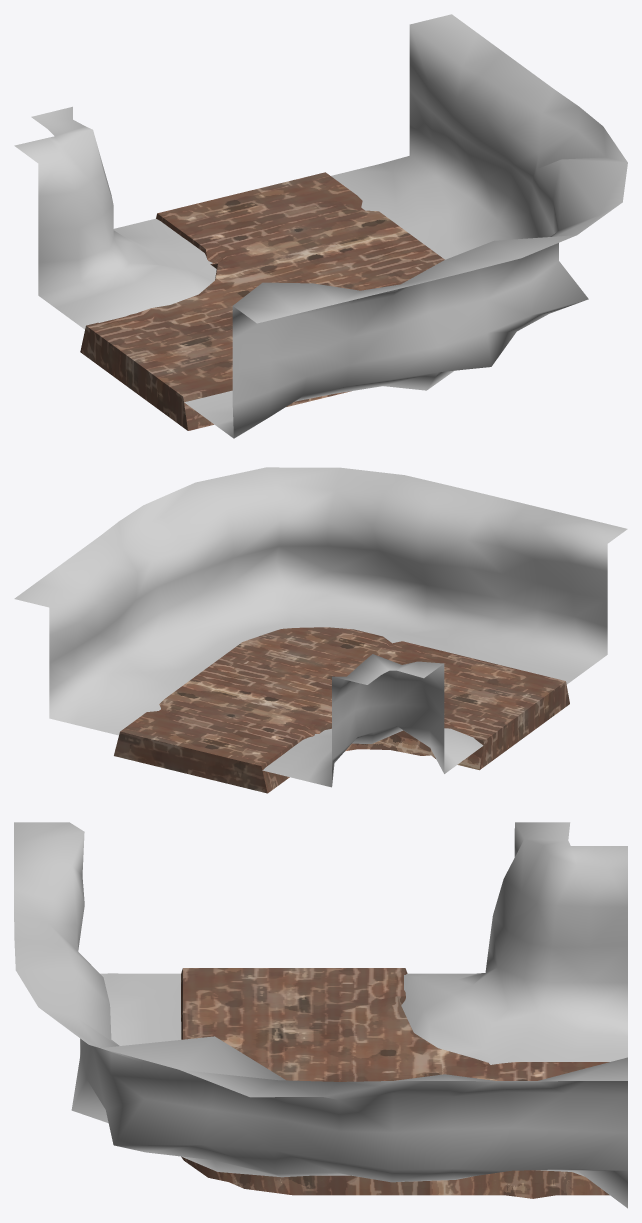
File: tile_natural3.fbx
3 views of the same model, one above another, from view 1: azimuth 30°, elevation 25°; view 2: azimuth 150°, elevation 25°; view 3: azimuth 270°, elevation 25° (orthographic). The views are drawn at different scales.
Parts seen in each view (by area): view 1: tilenatural3; view 2: tilenatural3; view 3: tilenatural3.
Part boxes in pixels (x1,y1,x2,y2): tilenatural3: [14, 14, 627, 438]; tilenatural3: [14, 467, 627, 793]; tilenatural3: [14, 822, 627, 1208].
Bounding box in the file's own units: 1103 × 1104 × 380.
